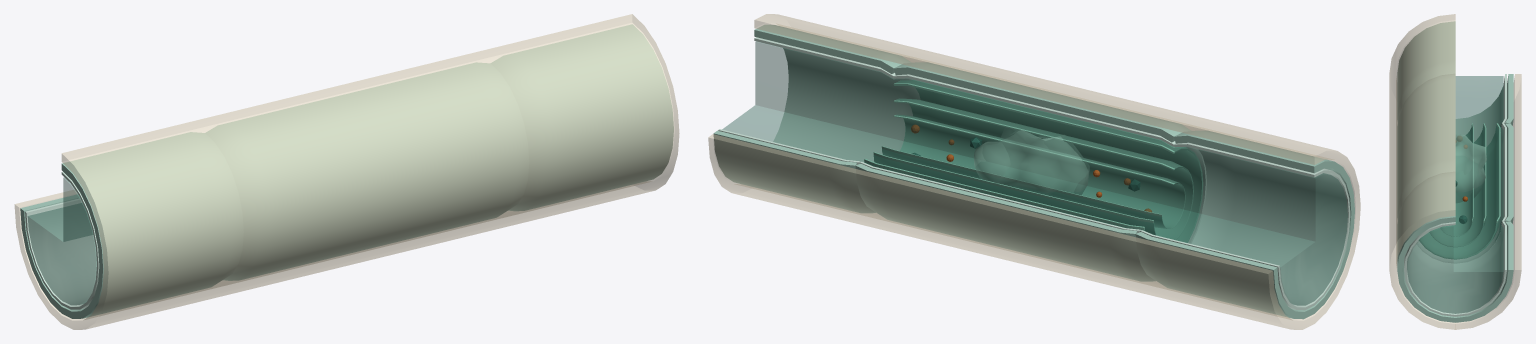
File: gunflintia_cut_001.glb
3 renders of one model, left to right at view 1: azimuth 30°, elevation 25°; view 2: azimuth 150°, elevation 25°; view 3: azimuth 270°, elevation 25°, orthographic. The views are drawn at different scales.
Parts seen in each view (by area): view 1: gunflintia_cut_sheath, gunflintia_cut_cell_wall, gunflintia_cut_membrane, gunflintia_cut_cytoplasm; view 2: gunflintia_cut_cytoplasm, gunflintia_cut_sheath, gunflintia_cut_cell_wall, gunflintia_cut_membrane, gunflintia_cut_thylakoids, gunflintia_cut_nucleoid; view 3: gunflintia_cut_sheath, gunflintia_cut_cell_wall, gunflintia_cut_cytoplasm, gunflintia_cut_membrane, gunflintia_cut_thylakoids, gunflintia_cut_nucleoid.
Part boxes in pixels (x1=…): gunflintia_cut_sheath: x1=14, y1=14, x2=679, y2=329; gunflintia_cut_cell_wall: x1=20, y1=24, x2=673, y2=318; gunflintia_cut_membrane: x1=25, y1=172, x2=99, y2=309; gunflintia_cut_cytoplasm: x1=27, y1=177, x2=96, y2=305; gunflintia_cut_cytoplasm: x1=722, y1=41, x2=1347, y2=305; gunflintia_cut_sheath: x1=708, y1=14, x2=1360, y2=329; gunflintia_cut_cell_wall: x1=713, y1=25, x2=1354, y2=319; gunflintia_cut_membrane: x1=718, y1=37, x2=1350, y2=310; gunflintia_cut_thylakoids: x1=864, y1=80, x2=1203, y2=242; gunflintia_cut_nucleoid: x1=974, y1=127, x2=1089, y2=195; gunflintia_cut_sheath: x1=1389, y1=14, x2=1521, y2=329; gunflintia_cut_cell_wall: x1=1397, y1=21, x2=1513, y2=322; gunflintia_cut_cytoplasm: x1=1407, y1=76, x2=1503, y2=313; gunflintia_cut_membrane: x1=1404, y1=74, x2=1506, y2=316; gunflintia_cut_thylakoids: x1=1419, y1=123, x2=1500, y2=259; gunflintia_cut_nucleoid: x1=1455, y1=133, x2=1486, y2=202.
Bounding box in the file's own units: 7 × 2 × 2.
8 materials, 1 textured.
